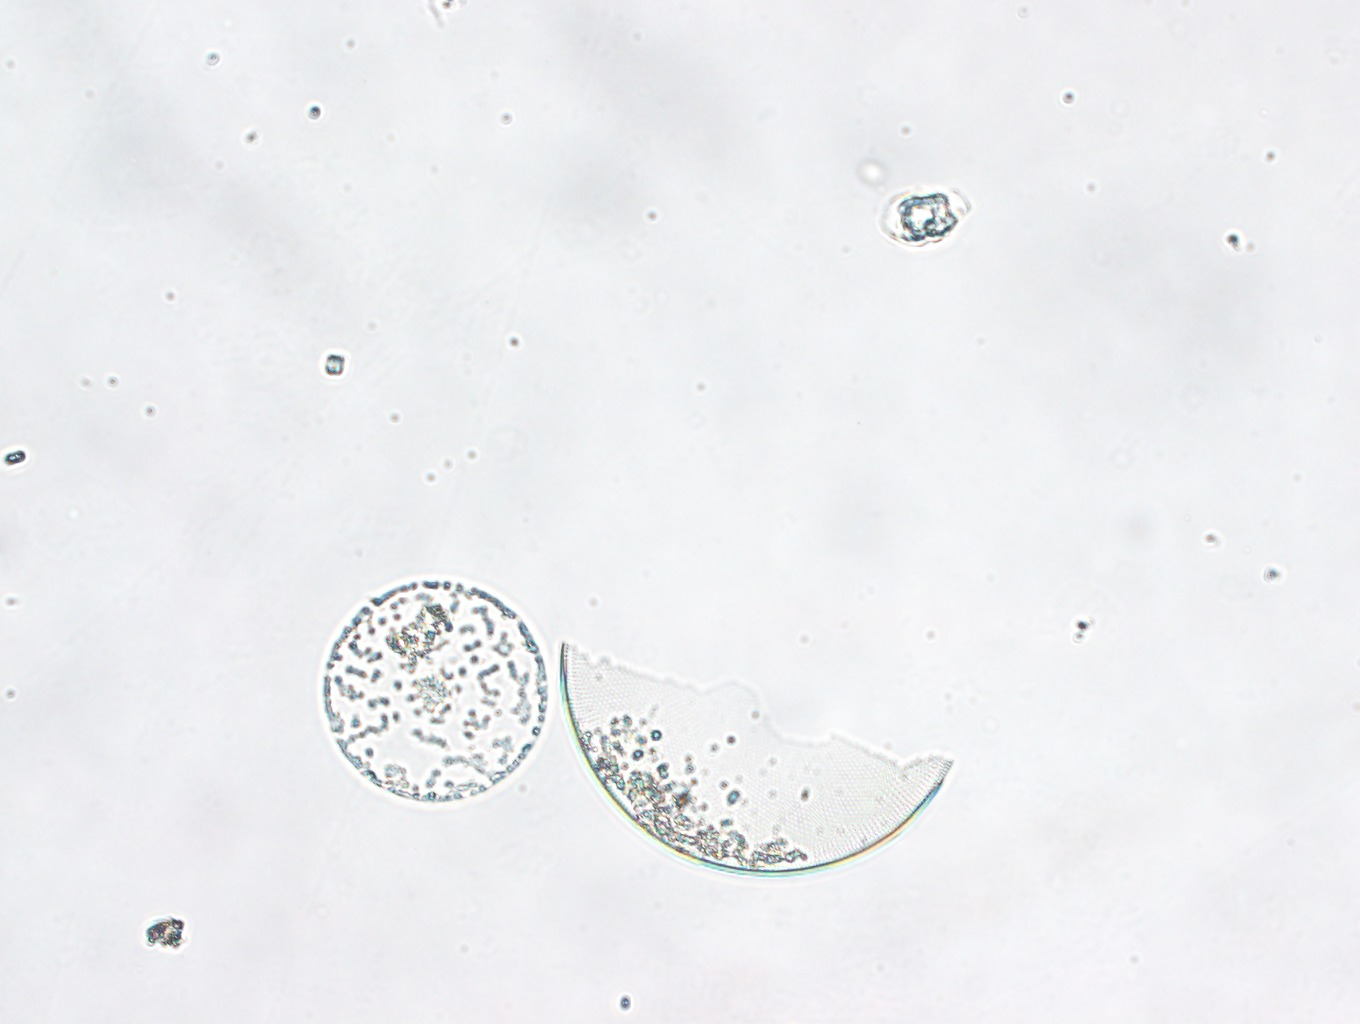coscinodiscus: (559, 639, 953, 874), (323, 578, 549, 803)
